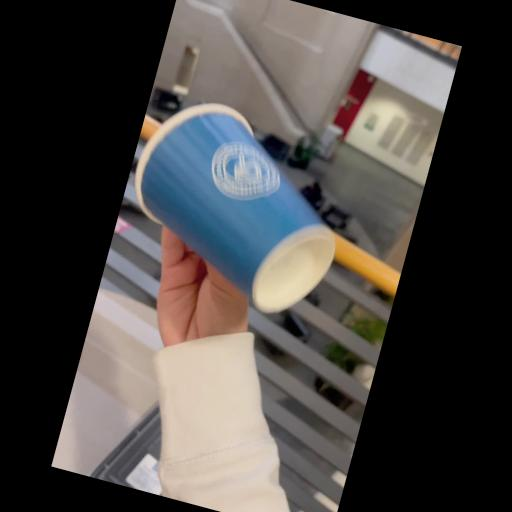lp_paper_cup: (104, 84, 368, 328)
